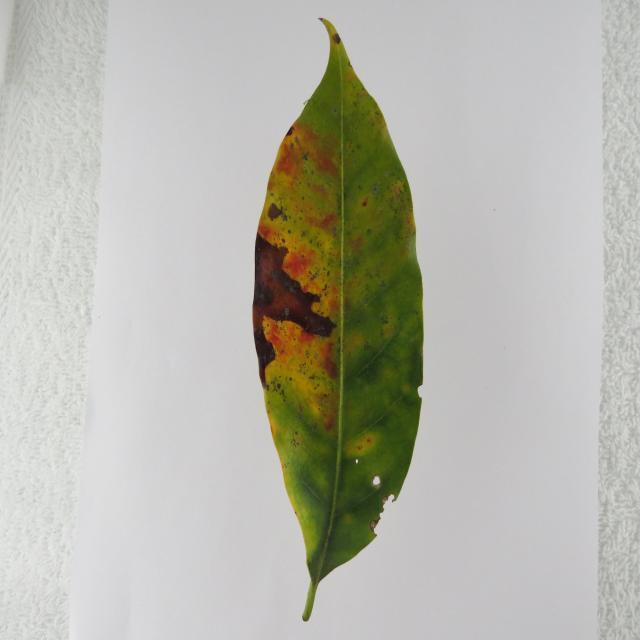DeficienciaNutricional-Fosforo: (252, 20, 424, 620)
